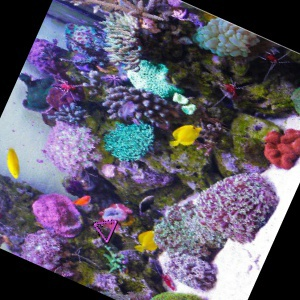triangle: (92, 218, 118, 245)
